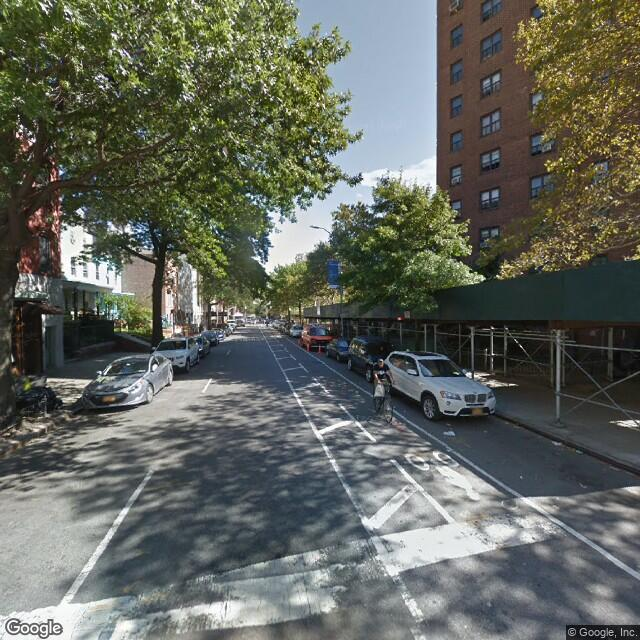litter: (440, 429, 460, 441)
